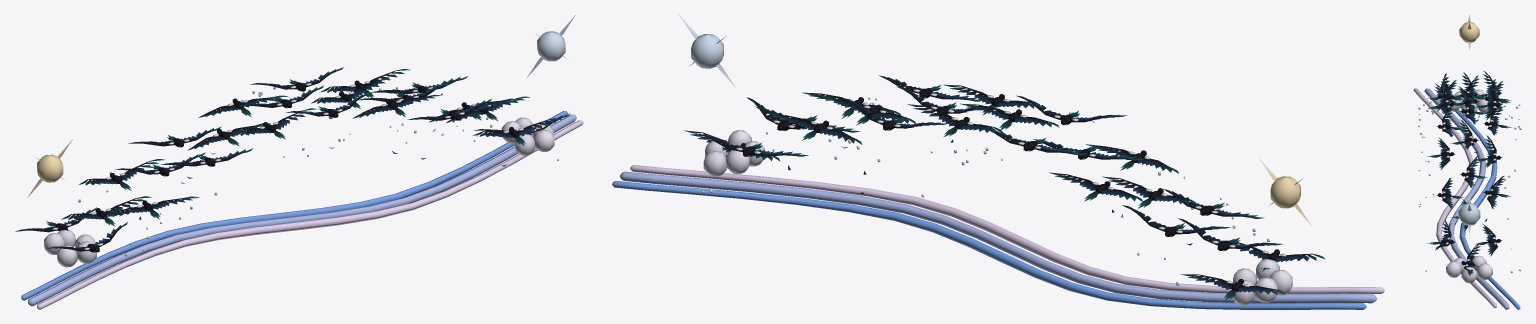
File: magpiebridge.glb
3 views of the same model, side by side, from view 1: azimuth 30°, elevation 25°; view 2: azimuth 150°, elevation 25°; view 3: azimuth 270°, elevation 25° (orthographic). The views are drawn at different scales.
Visible parts, largest first — view 1: magpiebridge; view 2: magpiebridge; view 3: magpiebridge.
Boxes of the visible parts, left/top/right/bottom form: magpiebridge: left=15, top=15, right=583, bottom=309; magpiebridge: left=612, top=14, right=1384, bottom=309; magpiebridge: left=1413, top=15, right=1521, bottom=309.
Bounding box in the file's own units: 11.04 × 2.47 × 2.31.
